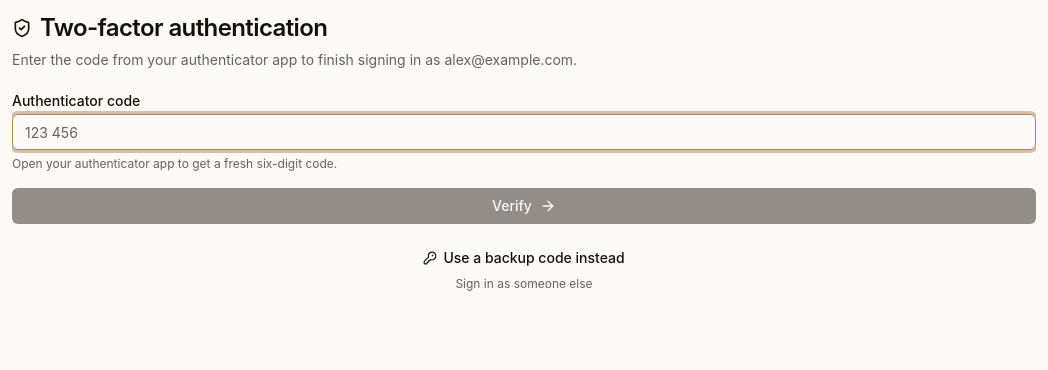
Test: <MFAChallenge /> › surfaces a server error and keeps the user on the prompt
This screenshot has width=1048, height=370.
Step 1. Type "000000" into the field with test id "mfa-code-input" → (524, 132), box [12,114,1036,150]
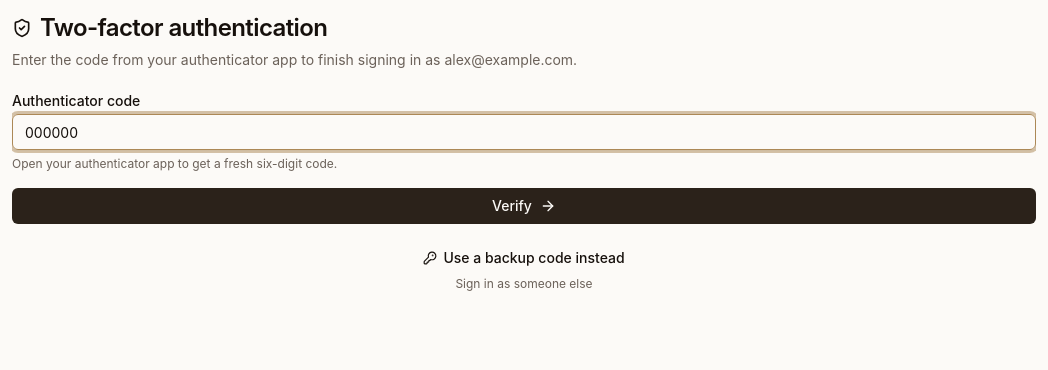
Step 2. Click the button with test id "mfa-submit" → (524, 206), box [12,188,1036,224]
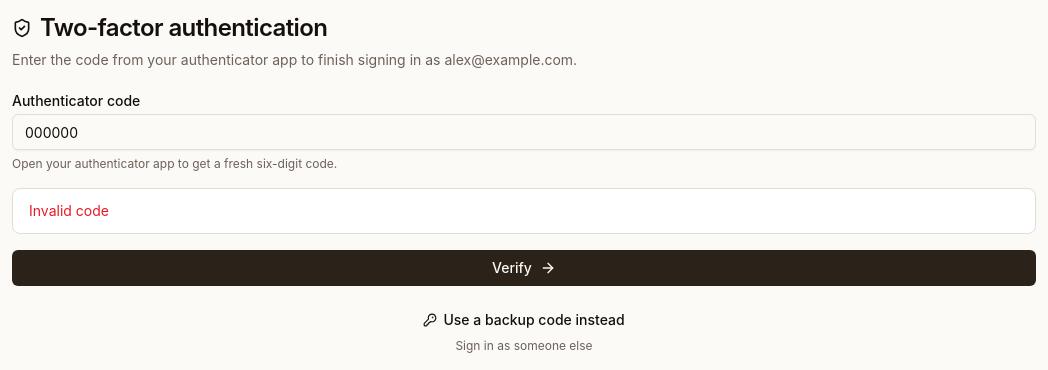
expect the message with test id "mfa-server-error" reads "Invalid code": met, box [29,202,109,219]
